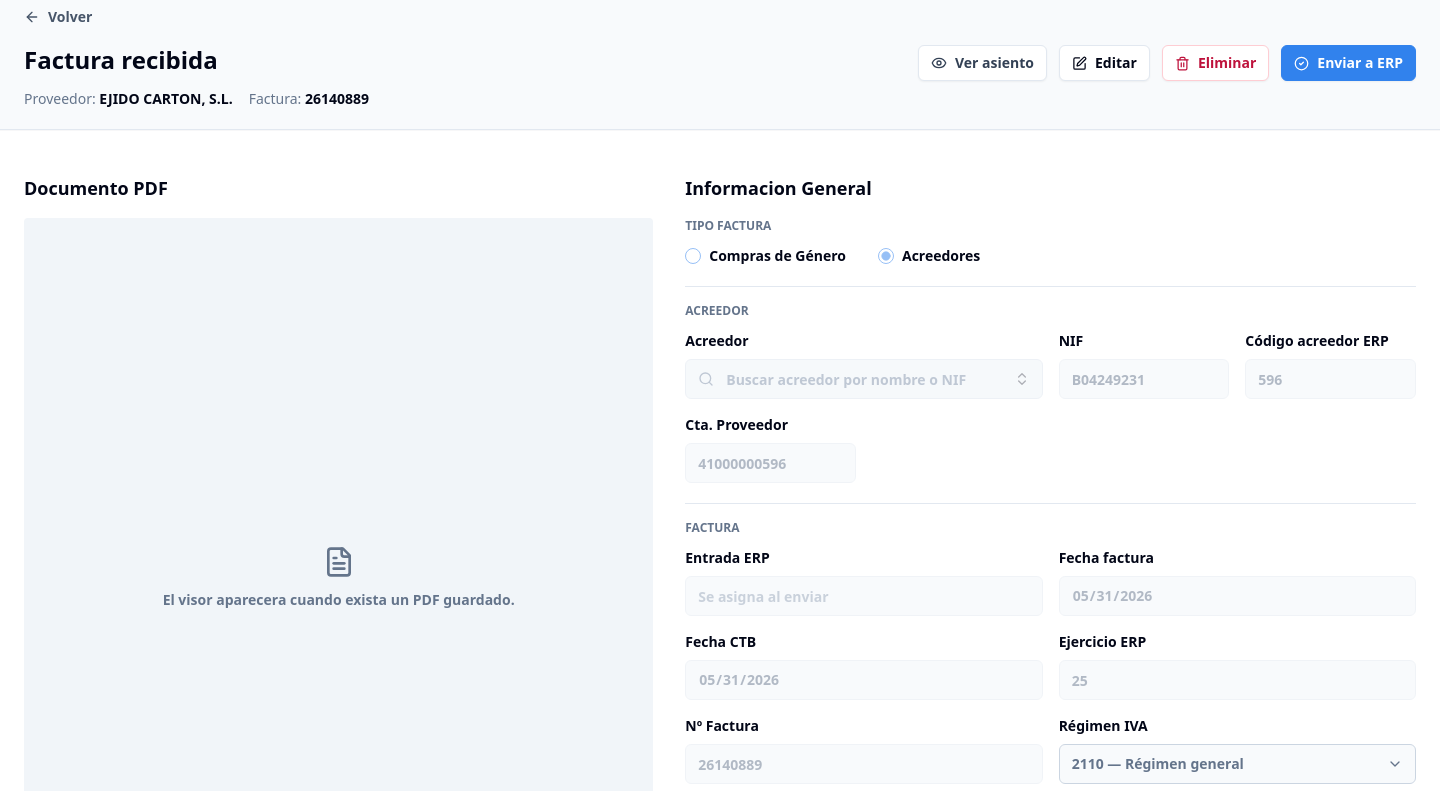
Test: FacturasRecibidas — modo consulta y edición › solo habilita Guardar tras un cambio y Cancelar restaura el baseline
Click the button "Editar": (1104, 63) [1059, 45, 1150, 81]
(page scrolled)
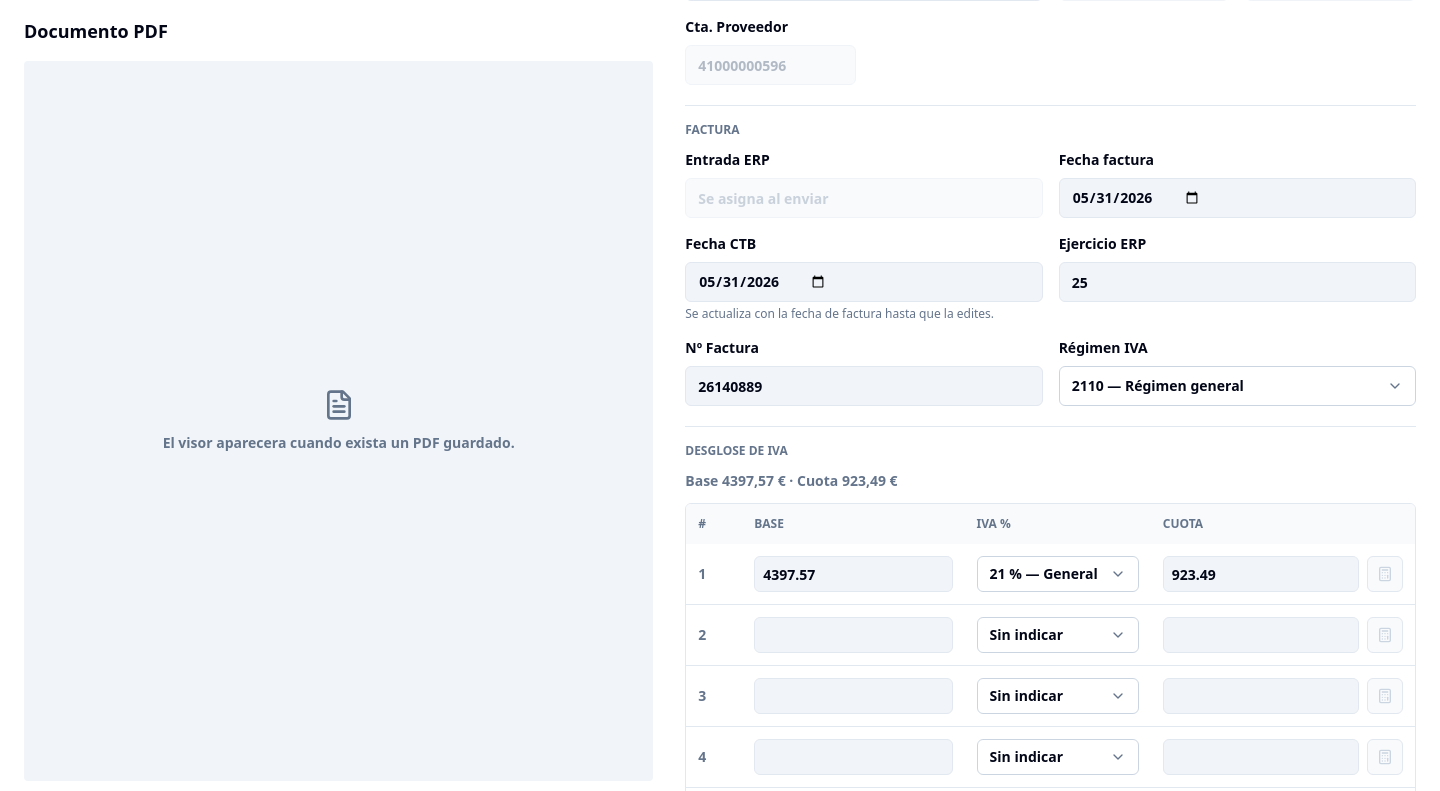
Now the field showing "26140889" is enabled
Replace the text in the field showing "26140889" with "26140889-EDITADA": (864, 386) [685, 366, 1043, 406]
(page scrolled)
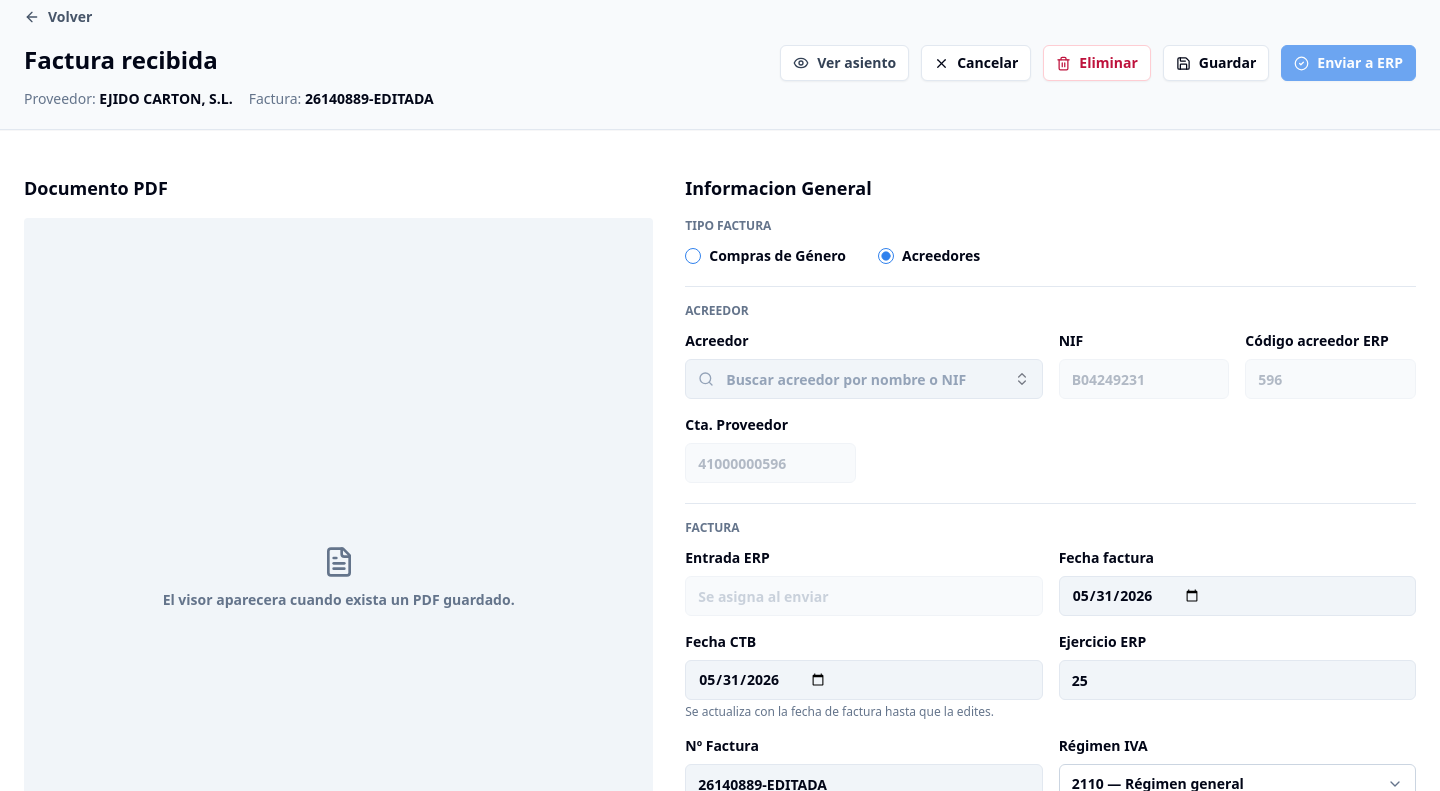
Now the button "Guardar" is enabled, box [1163, 45, 1269, 81]
Click the button "Cancelar": (976, 63) [921, 45, 1031, 81]
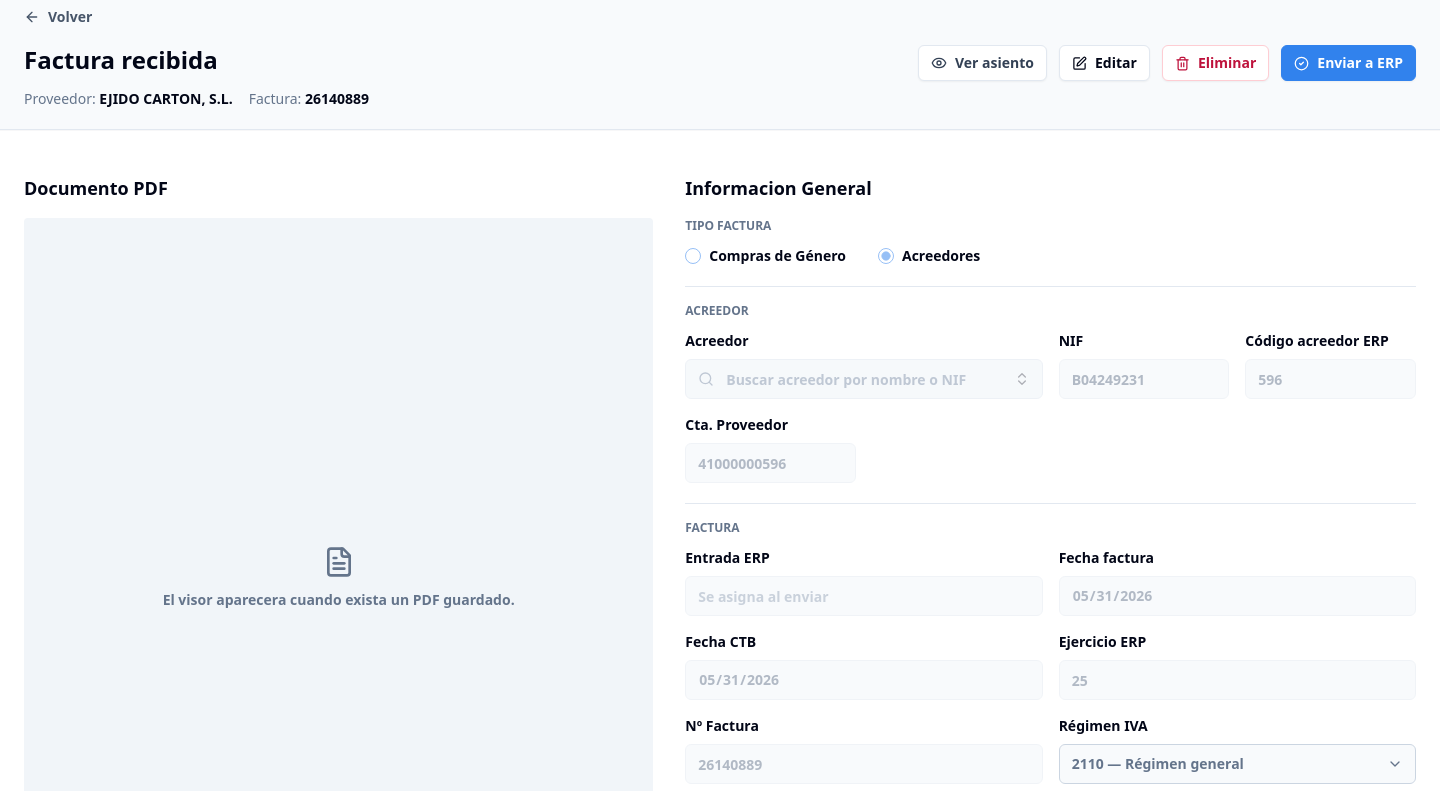
Now the field showing "26140889" is disabled, box [685, 744, 1043, 784]
Now the text showing "26140889-EDITADA" is gone
Now the button "Editar" is shown, box [1059, 45, 1150, 81]
